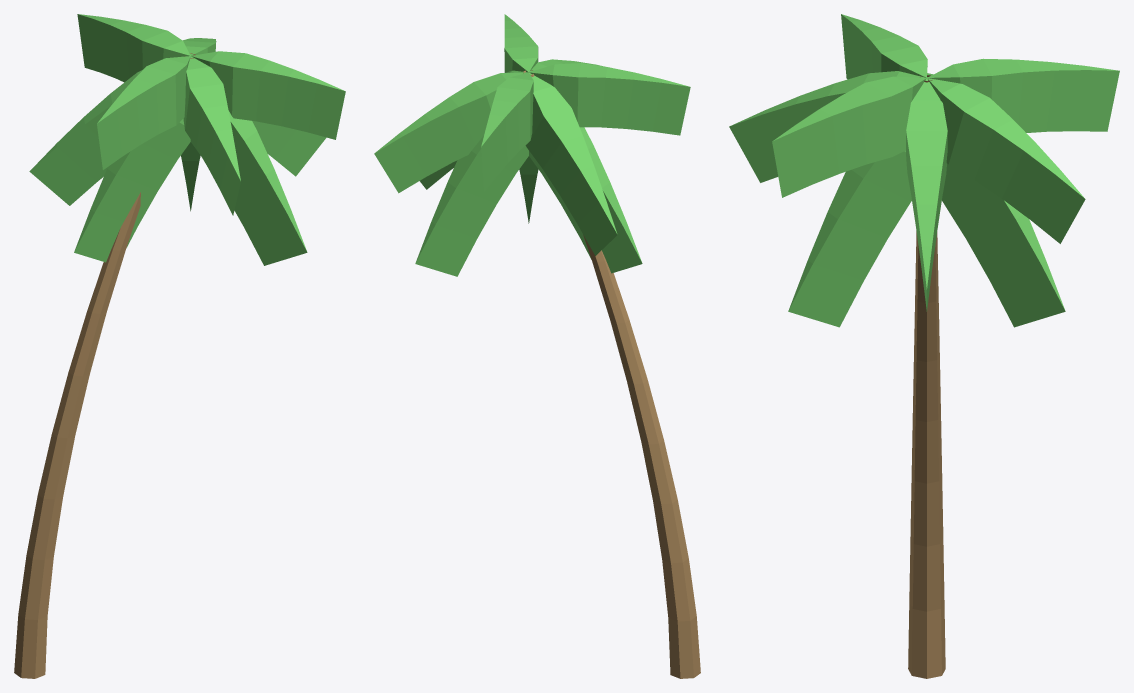
Rendered from PalmTree2_LOD0_roblox.fbx.
The picture shows the model from 3 angles, left to right: view 1: azimuth 30°, elevation 25°; view 2: azimuth 150°, elevation 25°; view 3: azimuth 270°, elevation 25°; orthographic projection. The views are drawn at different scales.
Visible parts, largest first — view 1: PalmTree2_LeafMat, PalmTree2_TrunkMat.003; view 2: PalmTree2_LeafMat, PalmTree2_TrunkMat.003; view 3: PalmTree2_LeafMat, PalmTree2_TrunkMat.003.
Part boxes in pixels (<box>): PalmTree2_LeafMat: <box>29,14,345,265</box>; PalmTree2_TrunkMat.003: <box>14,53,195,678</box>; PalmTree2_LeafMat: <box>374,14,690,276</box>; PalmTree2_TrunkMat.003: <box>523,70,700,678</box>; PalmTree2_LeafMat: <box>729,14,1119,327</box>; PalmTree2_TrunkMat.003: <box>908,75,945,678</box>.
Bounding box in the file's own units: 5.11 × 4.65 × 9.06.
